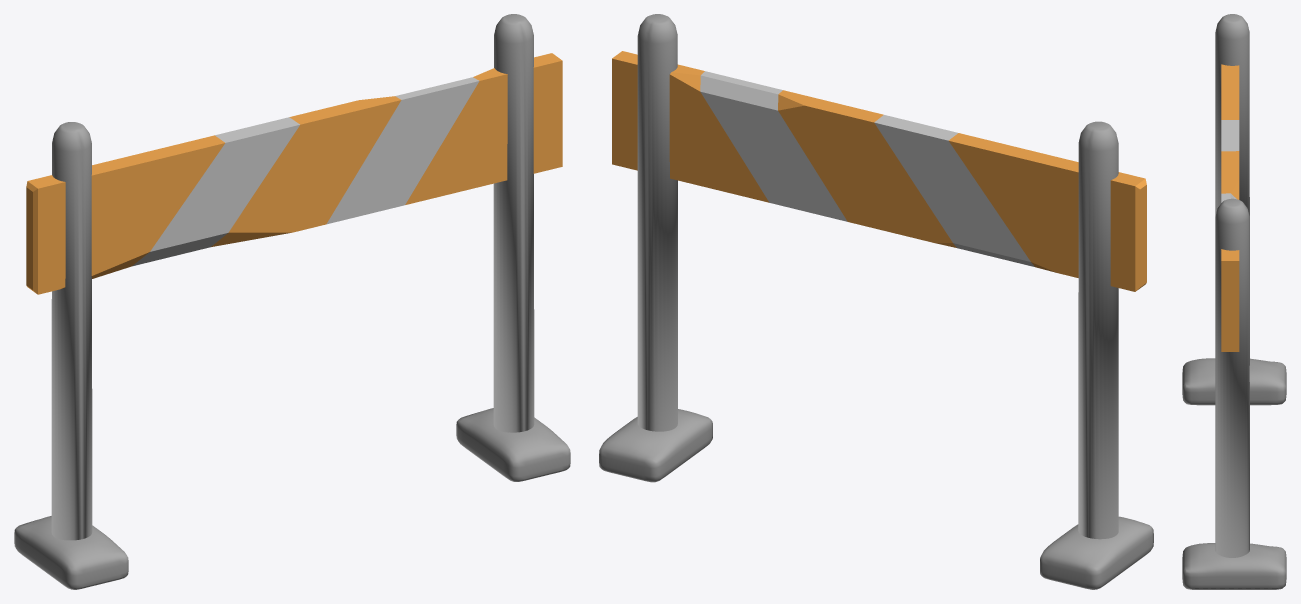
Rendered from danger.glb.
The picture shows the model from 3 angles, left to right: view 1: azimuth 30°, elevation 25°; view 2: azimuth 150°, elevation 25°; view 3: azimuth 270°, elevation 25°; orthographic projection. The views are drawn at different scales.
Parts seen in each view (by area): view 1: Cube.022; view 2: Cube.022; view 3: Cube.022.
Part boxes in pixels (x1,y1,x2,y2): Cube.022: (14,14,570,589); Cube.022: (599,14,1153,589); Cube.022: (1182,14,1286,589).
Bounding box in the file's own units: 5.7 × 4.54 × 1.14.
Materials: 4 (1 with a texture image).
